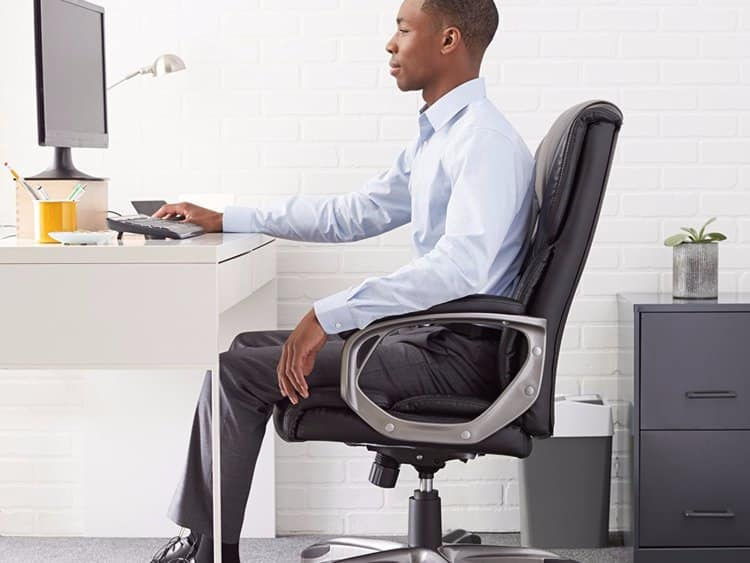chairs: (276, 98, 646, 563)
